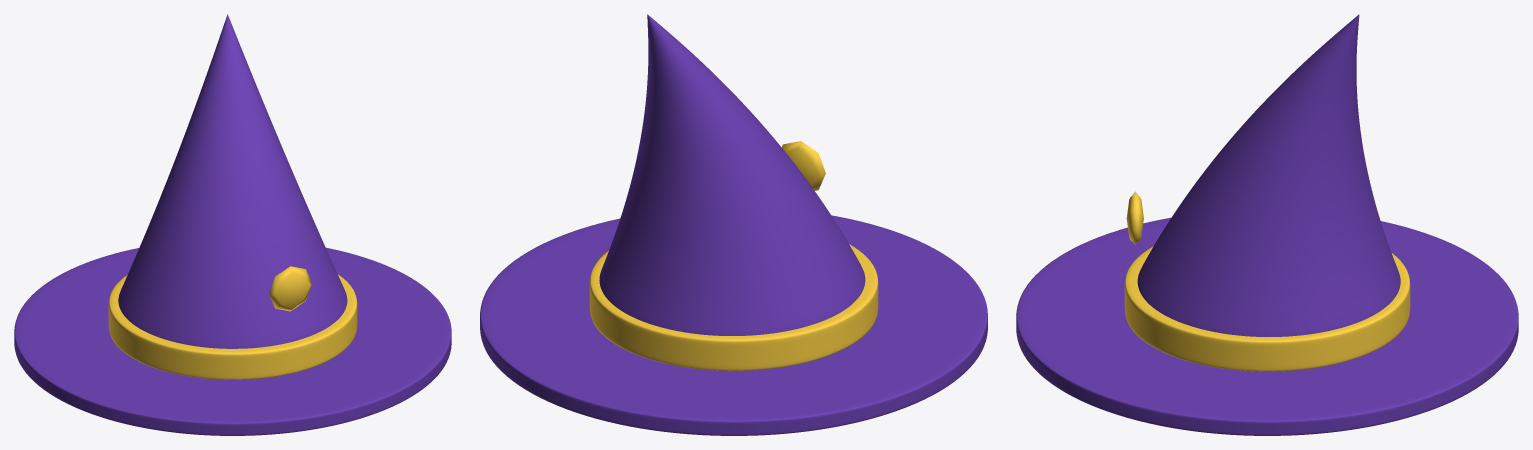
File: wizard_hat.glb
The picture shows the model from 3 angles, left to right: view 1: azimuth 30°, elevation 25°; view 2: azimuth 150°, elevation 25°; view 3: azimuth 270°, elevation 25°; orthographic projection. The views are drawn at different scales.
Parts seen in each view (by area): view 1: ACC_wizard_cone, ACC_wizard_brim, ACC_wizard_band, ACC_wizard_star; view 2: ACC_wizard_brim, ACC_wizard_cone, ACC_wizard_band, ACC_wizard_star; view 3: ACC_wizard_brim, ACC_wizard_cone, ACC_wizard_band, ACC_wizard_star.
Part boxes in pixels (x1,y1,x2,y2): ACC_wizard_cone: (118, 14, 347, 348); ACC_wizard_brim: (14, 247, 451, 435); ACC_wizard_band: (108, 274, 357, 379); ACC_wizard_star: (269, 266, 311, 311); ACC_wizard_brim: (480, 215, 987, 435); ACC_wizard_cone: (599, 14, 865, 335); ACC_wizard_band: (589, 244, 878, 370); ACC_wizard_star: (781, 141, 825, 190); ACC_wizard_brim: (1016, 217, 1518, 435); ACC_wizard_cone: (1137, 14, 1400, 336); ACC_wizard_band: (1124, 246, 1410, 371); ACC_wizard_star: (1126, 191, 1143, 245).
Bounding box in the file's own units: 0.8744 × 0.645 × 0.8744.
